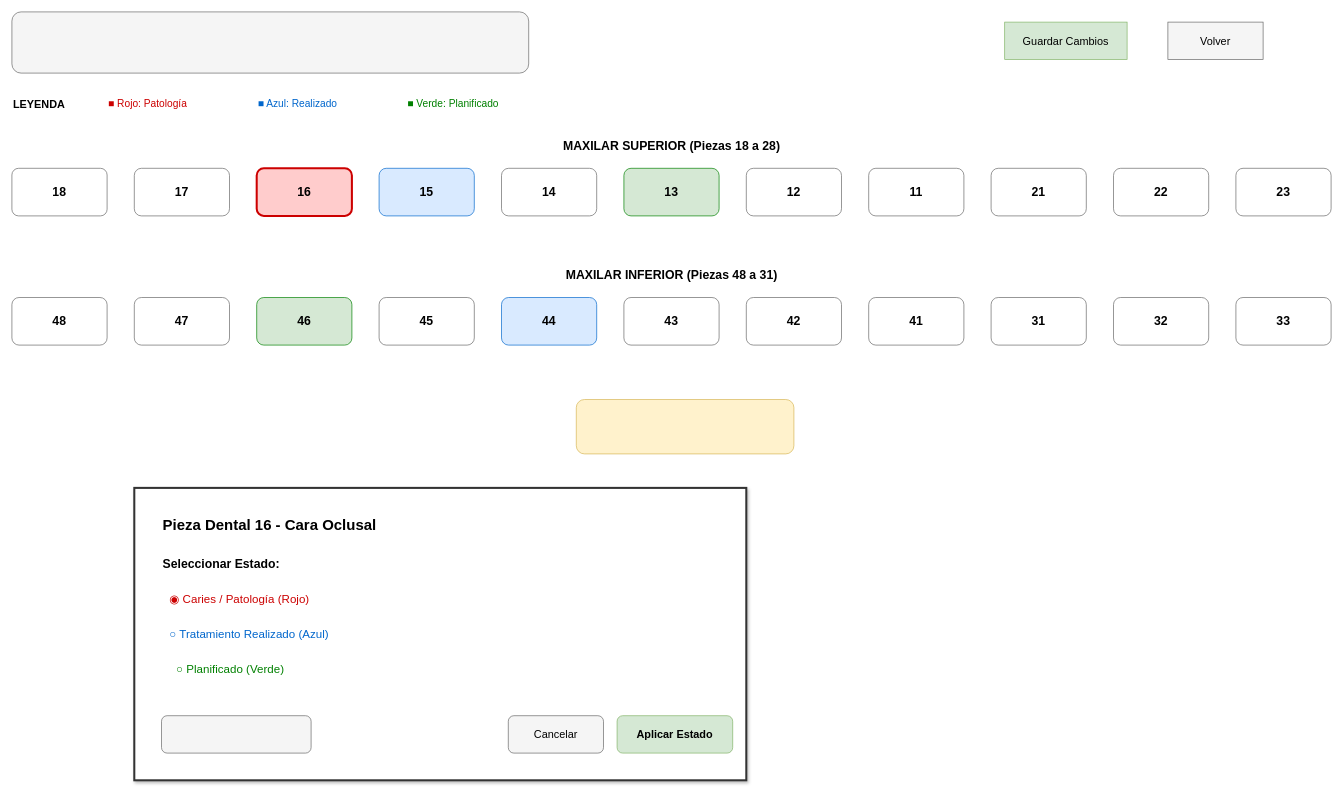
Image size: 1343x798. Some labels were removed from this diagram. Each missing label, with the centre of its shape:
Clic seleccionado: pieza 16 Cara oclusal activa: [685,426]
Limpiar Estado (Sano): [236,734]
PACIENTE: Juan Pérez CI: 4589211 Alergias: Penicilina: [270,42]
